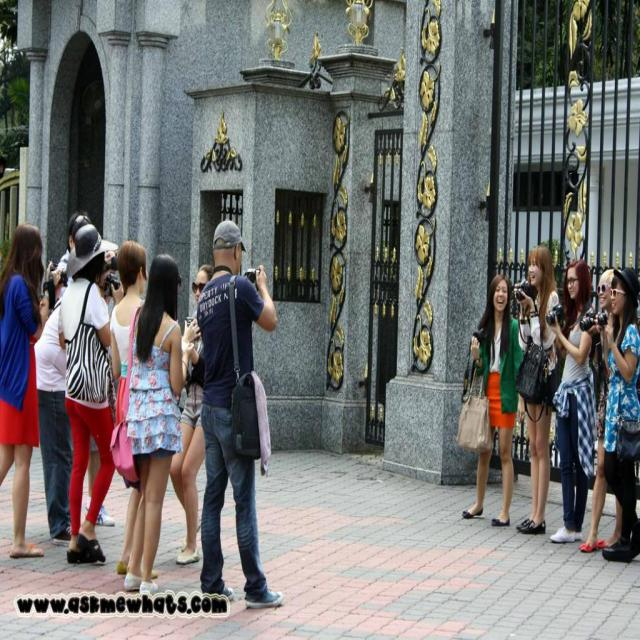nomask: (194, 272, 210, 308), (528, 254, 542, 286), (610, 281, 624, 313), (493, 280, 507, 310), (566, 266, 578, 296), (598, 276, 610, 306), (138, 256, 148, 292)
